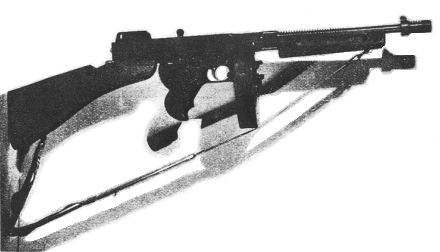rifle: (7, 15, 426, 240)
